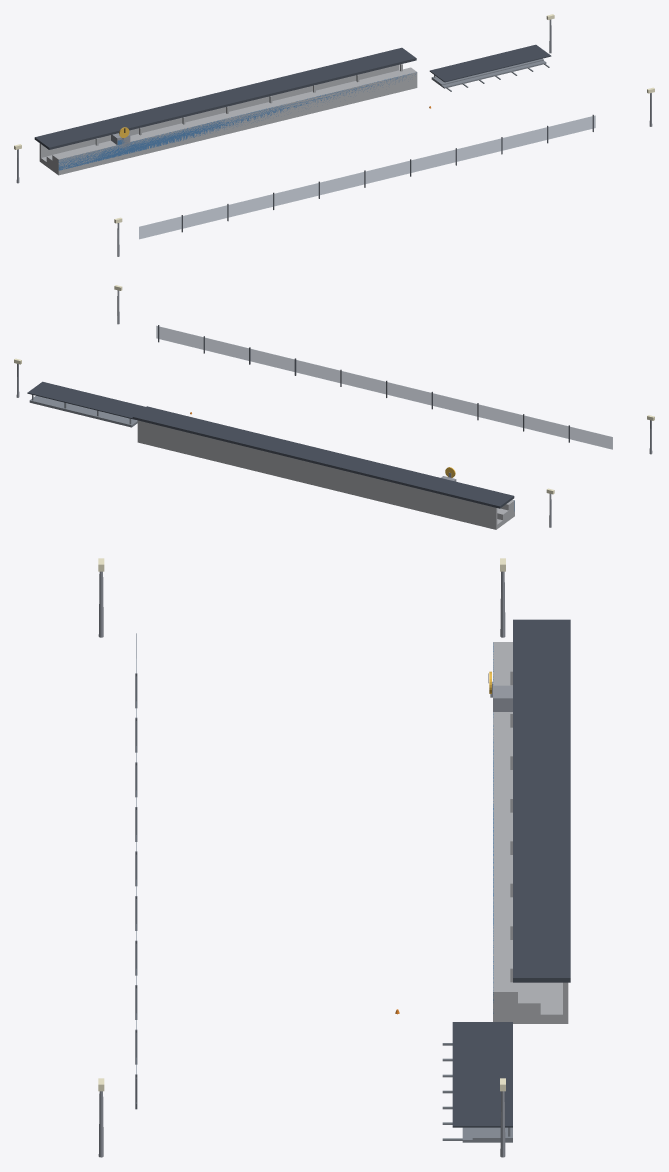
Rendered from omura_venue.obj.
The picture shows the model from 3 angles, top to bottom: view 1: azimuth 30°, elevation 25°; view 2: azimuth 150°, elevation 25°; view 3: azimuth 270°, elevation 25°; orthographic projection. The views are drawn at different scales.
Parts seen in each view (by area): view 1: stand, roof, net, glass, pit, tower; view 2: stand, roof, net, pit, tower; view 3: roof, stand, tower, net_post, pit.
Part boxes in pixels (x1,y1,x2,y2): stand: (39,64,417,175); roof: (34,44,551,149); net: (139,115,595,239); glass: (58,72,416,170); pit: (431,58,549,91); tower: (16,19,652,256); stand: (137,420,514,529); roof: (27,381,514,508); net: (156,326,612,449); pit: (29,395,137,427); tower: (16,290,652,527); roof: (452,619,570,1127); stand: (493,642,568,1023); tower: (98,571,512,1157); net_post: (135,673,137,1109); pit: (442,1043,512,1142).
Size of the model in its own units: 496 by 33 by 188.
